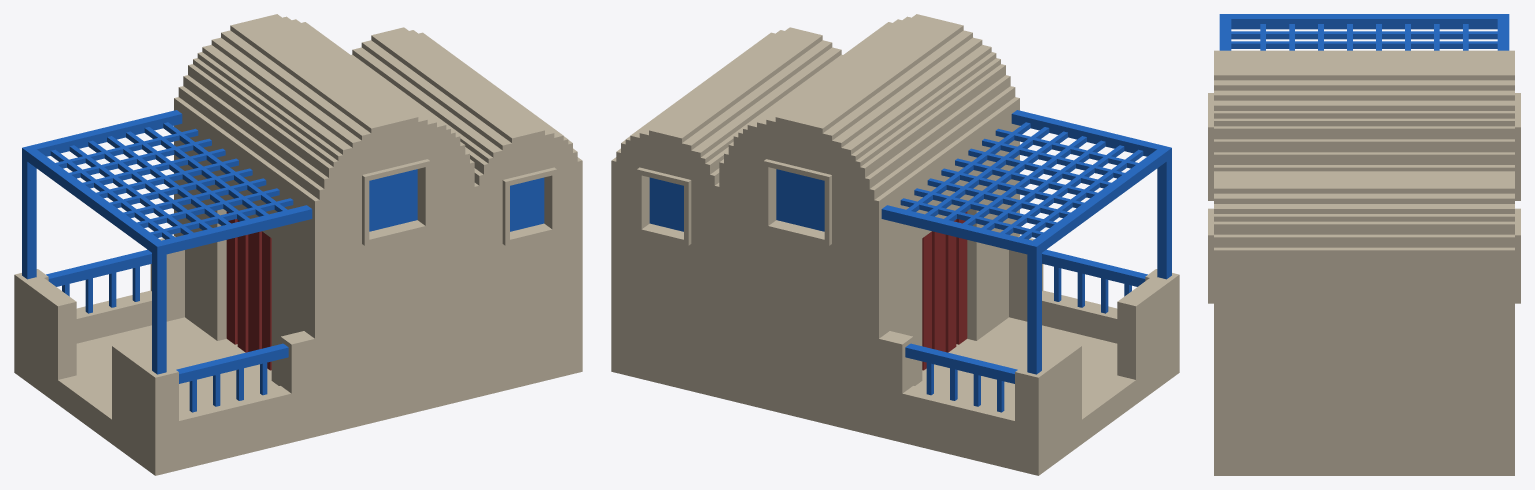
The model's file is Background_C_house_04.FBX.
3 views of the same model, side by side, from view 1: azimuth 30°, elevation 25°; view 2: azimuth 150°, elevation 25°; view 3: azimuth 270°, elevation 25° (orthographic). The views are drawn at different scales.
Visible parts, largest first — view 1: Background_C-19; view 2: Background_C-19; view 3: Background_C-19.
Part boxes in pixels (<box>): Background_C-19: <box>14,14,582,475</box>; Background_C-19: <box>611,14,1179,475</box>; Background_C-19: <box>1208,14,1520,475</box>.
Bounding box in the file's own units: 9.1 × 6 × 5.4.
Materials: 1 (1 with a texture image).
